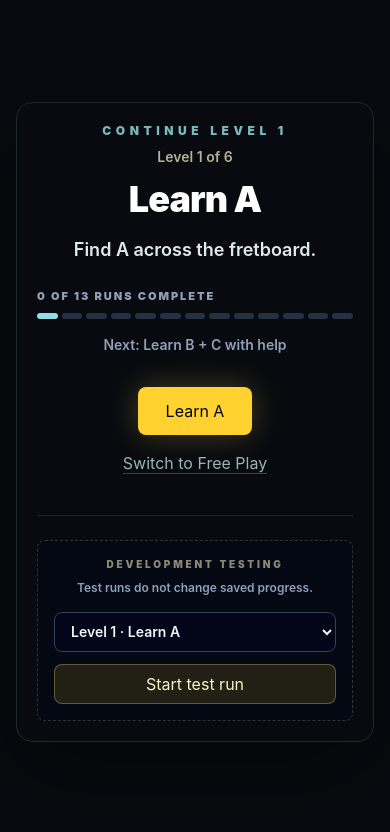
Test: GuidedLearningPath dev test mode › restores the normal Guided path after exiting test mode
Click the button "Start test run": (195, 684) [54,664,336,704]
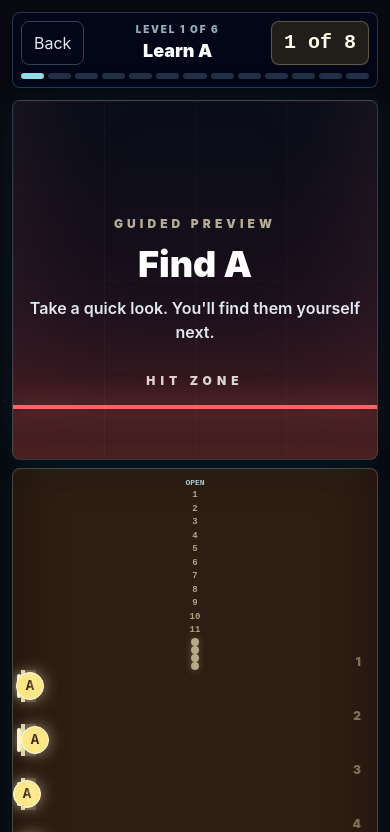
Click the button "Back": (53, 43) [21,21,84,65]
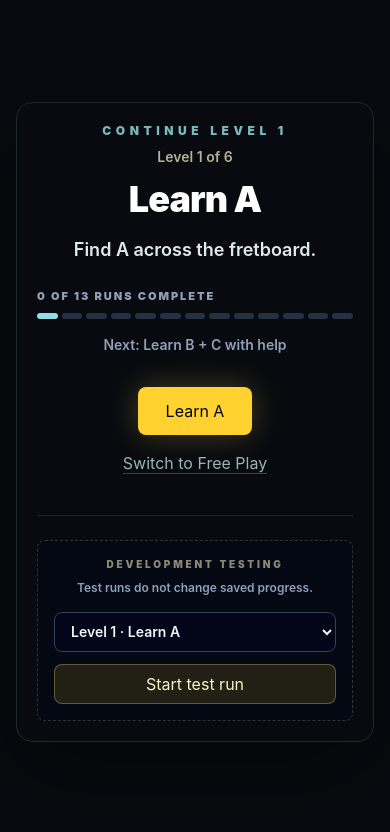
Expected: the heading "Learn A" is shown, [129,177,261,221]
Expected: the element with test id "guided-dev-step-launcher" is shown, [37,540,353,721]
